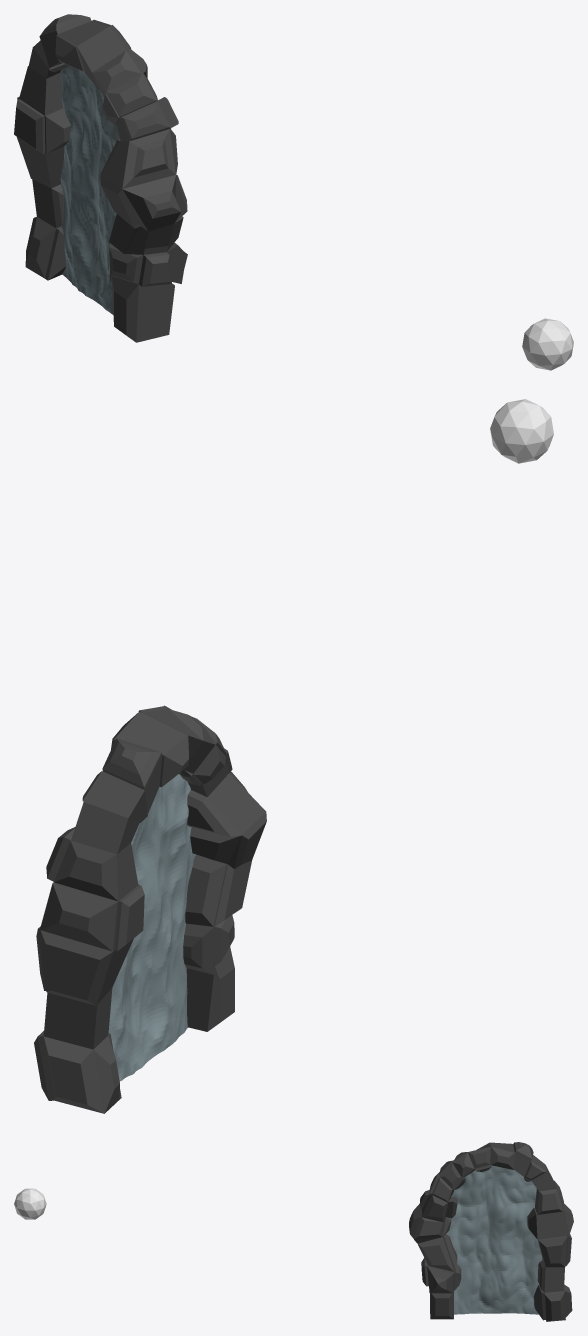
The model's file is PortalMB.fbx.
3 renders of one model, top to bottom at view 1: azimuth 30°, elevation 25°; view 2: azimuth 150°, elevation 25°; view 3: azimuth 270°, elevation 25°, orthographic. The views are drawn at different scales.
Parts seen in each view (by area): view 1: MarcoPortal, Portal, Icosphere; view 2: MarcoPortal, Portal, Icosphere; view 3: MarcoPortal, Portal, Icosphere.
Part boxes in pixels (x1=…): MarcoPortal: x1=14, y1=14, x2=187, y2=342; Portal: x1=60, y1=66, x2=119, y2=314; Icosphere: x1=522, y1=318, x2=573, y2=370; MarcoPortal: x1=34, y1=705, x2=266, y2=1113; Portal: x1=108, y1=774, x2=195, y2=1081; Icosphere: x1=490, y1=399, x2=553, y2=463; MarcoPortal: x1=409, y1=1142, x2=573, y2=1321; Portal: x1=446, y1=1165, x2=542, y2=1314; Icosphere: x1=14, y1=1188, x2=46, y2=1219.
Bounding box in the file's own units: 587 × 1161 × 3424.
